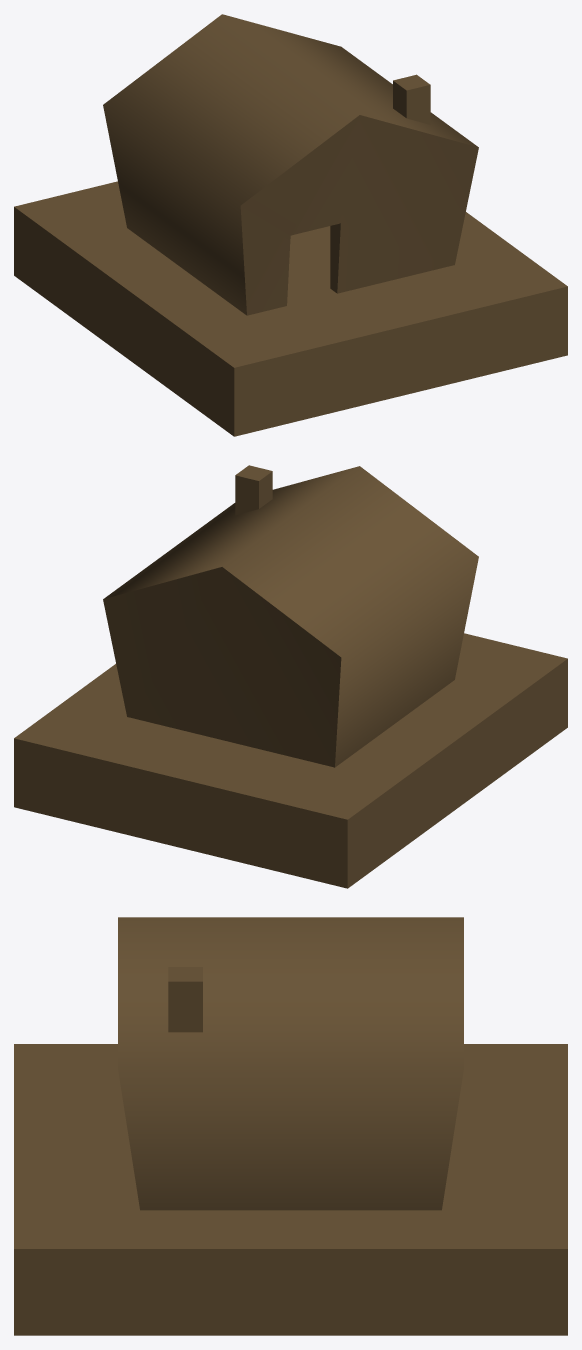
Rendered from cabin.dae.
3 renders of one model, top to bottom at view 1: azimuth 30°, elevation 25°; view 2: azimuth 150°, elevation 25°; view 3: azimuth 270°, elevation 25°, orthographic. The views are drawn at different scales.
Visible parts, largest first — view 1: building, deck, chimney; view 2: building, deck, chimney; view 3: deck, building, chimney.
Part boxes in pixels (x1=…): building: x1=103, y1=14, x2=478, y2=315; deck: x1=14, y1=181, x2=567, y2=436; chimney: x1=393, y1=74, x2=430, y2=124; building: x1=103, y1=466, x2=478, y2=767; deck: x1=14, y1=633, x2=567, y2=888; chimney: x1=235, y1=465, x2=272, y2=515; deck: x1=14, y1=1044, x2=567, y2=1335; building: x1=118, y1=917, x2=463, y2=1210; chimney: x1=168, y1=967, x2=202, y2=1032.
Size of the model in its own units: 140 by 101 by 160.
